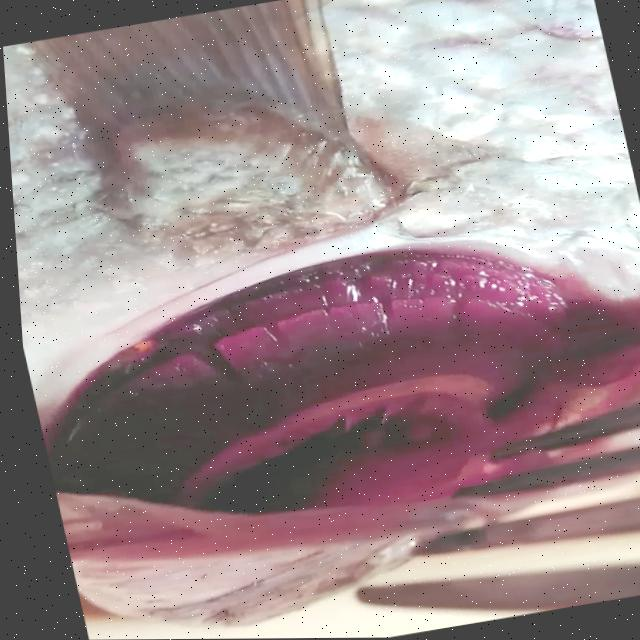Fresh: (12, 196, 640, 546)
